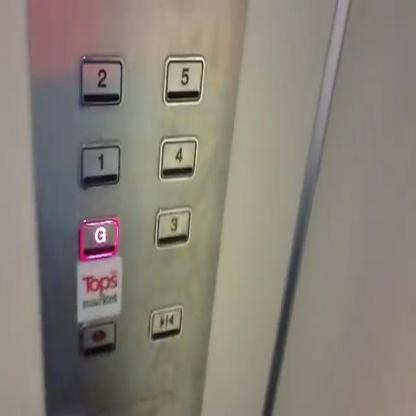1: (78, 135, 121, 191)
2: (76, 51, 124, 109)
3: (152, 202, 192, 252)
4: (157, 131, 198, 184)
5: (160, 50, 206, 108)
G: (77, 216, 121, 260)
close: (146, 302, 183, 344)
open: (77, 317, 117, 358)
